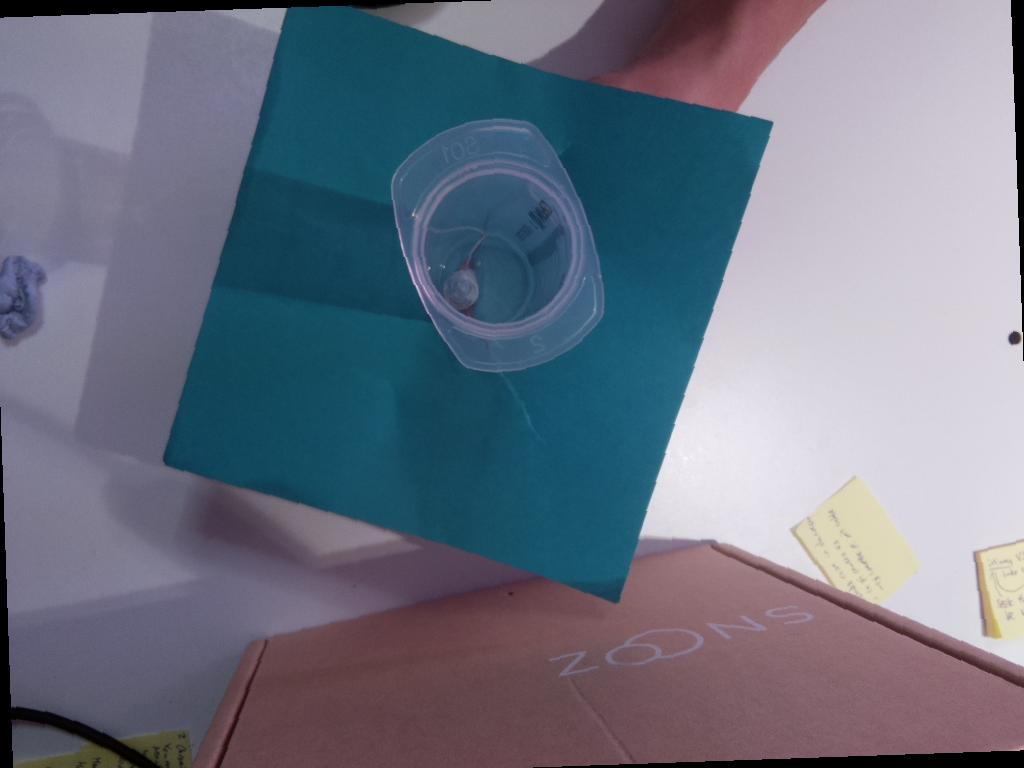clean: (390, 115, 605, 375)
